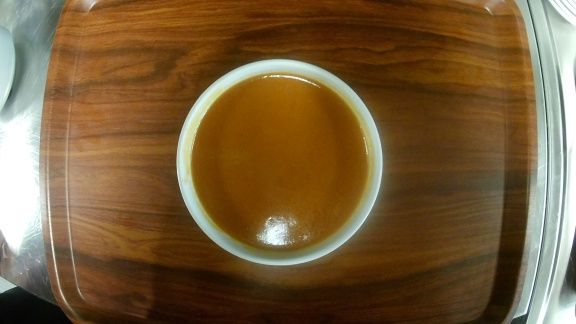domatescorba: (174, 58, 385, 267)
